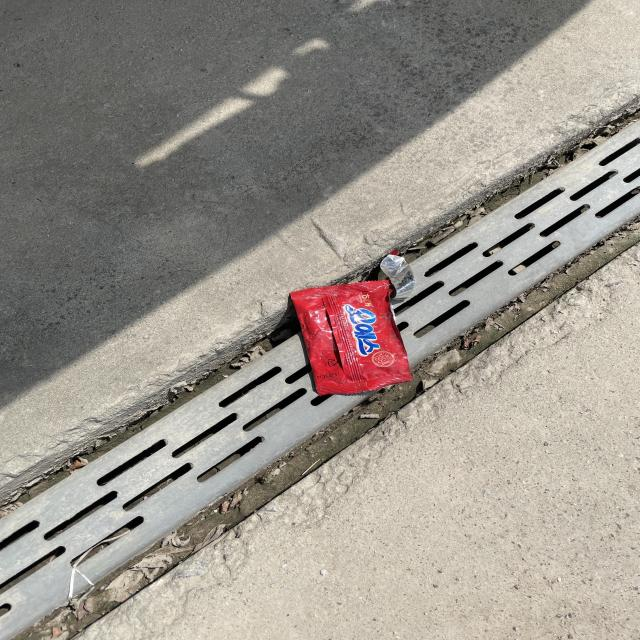litter: (290, 254, 415, 396)
